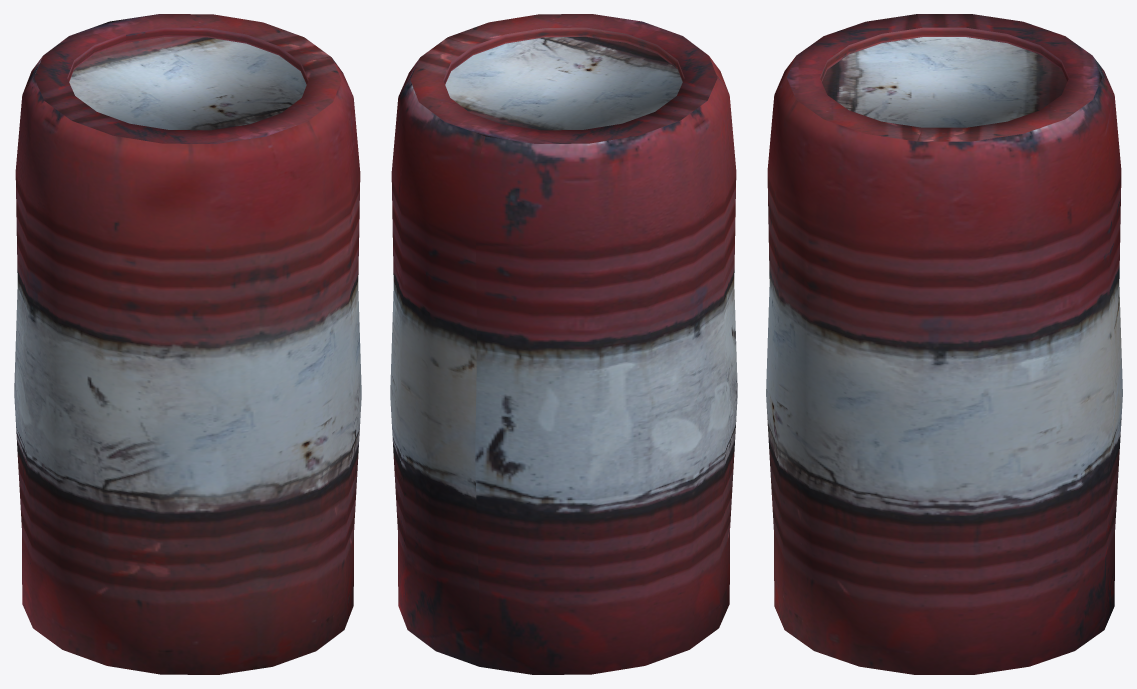
The model's file is barrell.obj.
3 renders of one model, left to right at view 1: azimuth 30°, elevation 25°; view 2: azimuth 150°, elevation 25°; view 3: azimuth 270°, elevation 25°, orthographic.
Visible parts, largest first — view 1: U3DMesh; view 2: U3DMesh; view 3: U3DMesh.
Boxes of the visible parts, bbox=[...] form: U3DMesh: bbox=[14, 14, 361, 674]; U3DMesh: bbox=[390, 14, 737, 674]; U3DMesh: bbox=[766, 14, 1122, 674].
Size of the model in its own units: 20.64 by 35.23 by 21.57.
Materials: 1 (1 with a texture image).
